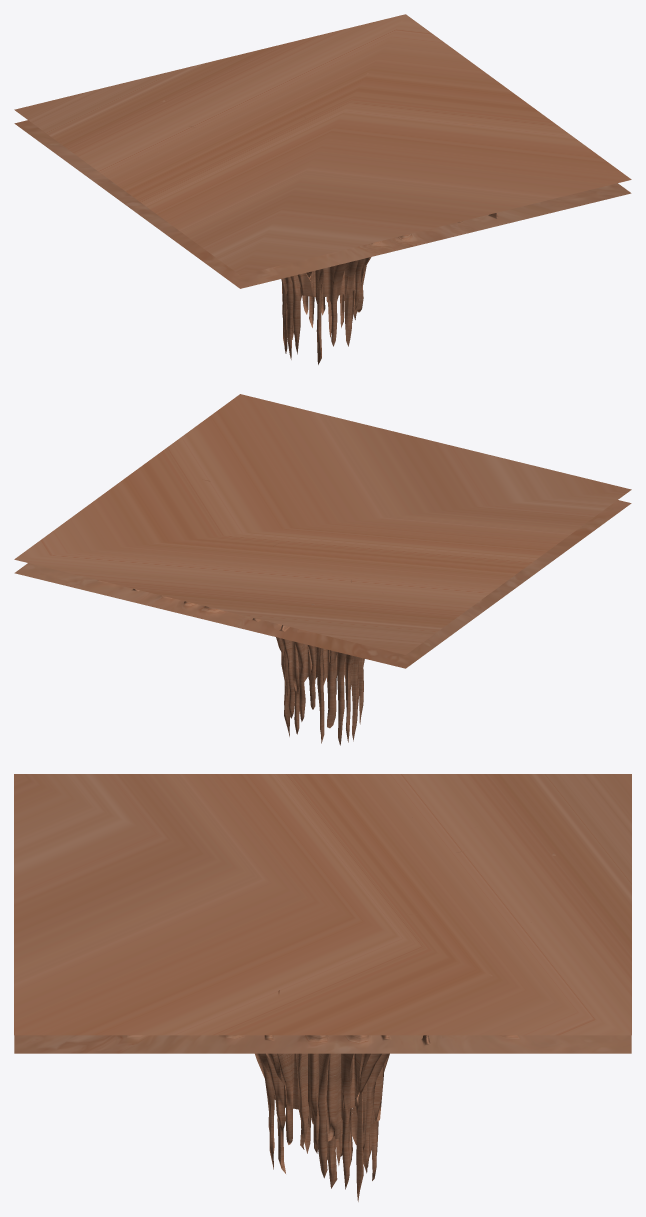
File: Geonosis_Pillar01_Ceiling.fbx
The picture shows the model from 3 angles, top to bottom: view 1: azimuth 30°, elevation 25°; view 2: azimuth 150°, elevation 25°; view 3: azimuth 270°, elevation 25°; orthographic projection. The views are drawn at different scales.
Parts seen in each view (by area): view 1: Geonosis_Pillar01_Ceiling; view 2: Geonosis_Pillar01_Ceiling; view 3: Geonosis_Pillar01_Ceiling.
Boxes of the visible parts, x1,y1,x2,y2 form: Geonosis_Pillar01_Ceiling: [14, 14, 631, 364]; Geonosis_Pillar01_Ceiling: [14, 394, 631, 745]; Geonosis_Pillar01_Ceiling: [14, 774, 631, 1201].
Bounding box in the file's own units: 1501 × 766 × 1501.
